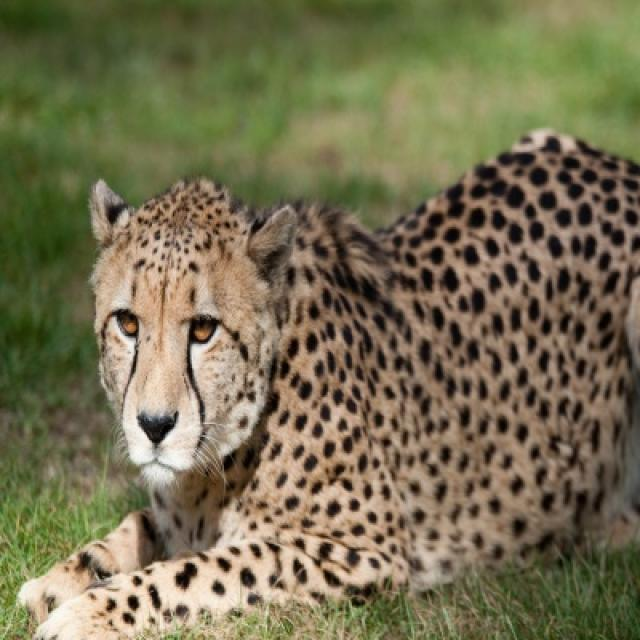Cheetah: (18, 128, 638, 638)
